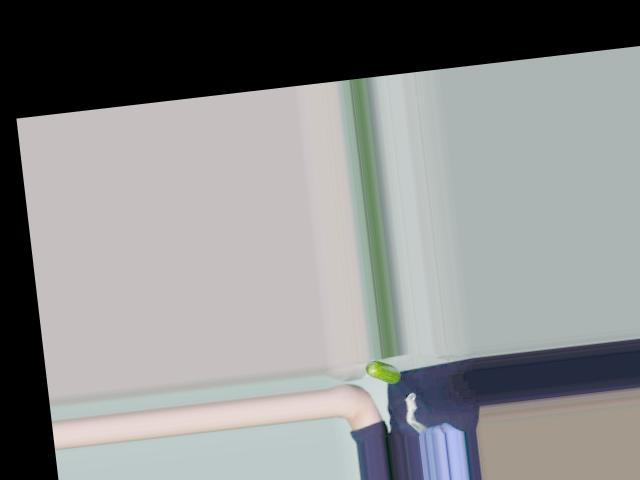cucumber: (364, 357, 401, 386)
